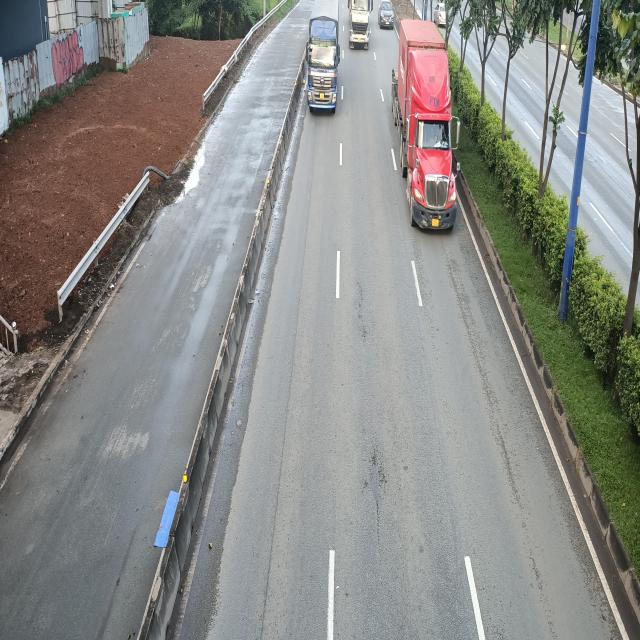container: (392, 25, 459, 233), (348, 0, 372, 49)
truck: (308, 0, 342, 114)
